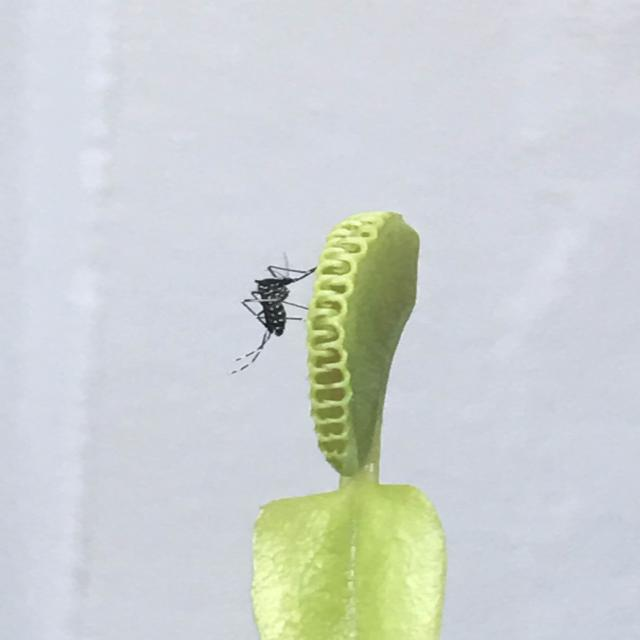albopictus: (225, 253, 324, 372)
